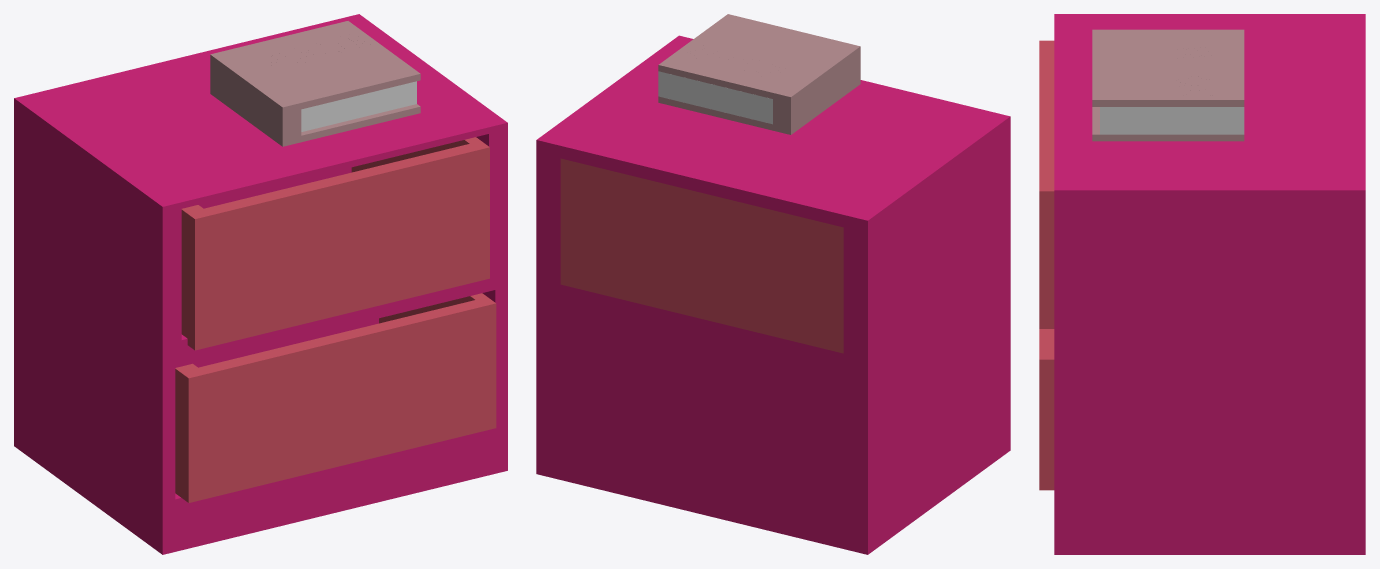
Rendered from Swanky Uusam-Leelo.glb.
3 renders of one model, left to right at view 1: azimuth 30°, elevation 25°; view 2: azimuth 150°, elevation 25°; view 3: azimuth 270°, elevation 25°, orthographic. The views are drawn at different scales.
Visible parts, largest first — view 1: Mesh_Mesh_head_geo.001_lambert2SG.001; view 2: Mesh_Mesh_head_geo.001_lambert2SG.001; view 3: Mesh_Mesh_head_geo.001_lambert2SG.001.
Part boxes in pixels (x1,y1,x2,y2): Mesh_Mesh_head_geo.001_lambert2SG.001: (14, 14, 507, 554); Mesh_Mesh_head_geo.001_lambert2SG.001: (536, 14, 1010, 554); Mesh_Mesh_head_geo.001_lambert2SG.001: (1039, 14, 1365, 554).
Bounding box in the file's own units: 55 × 61 × 43.
